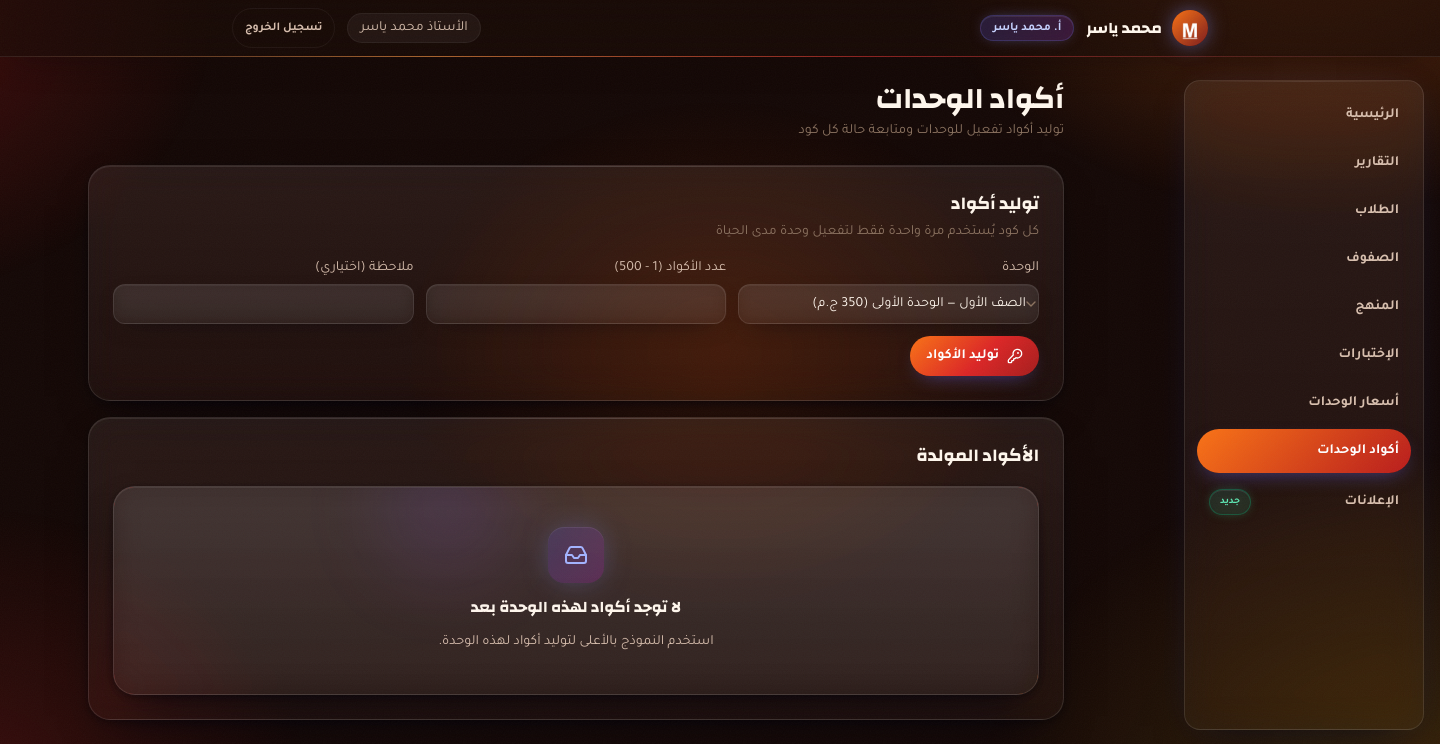
Test: CodesPage › renders the generated codes with the copy button and copies them to the clipboard
Type "2" into the number field labelled "عدد الأكواد (1 - 500)". click: (576, 304)
box: [426,284,726,324]
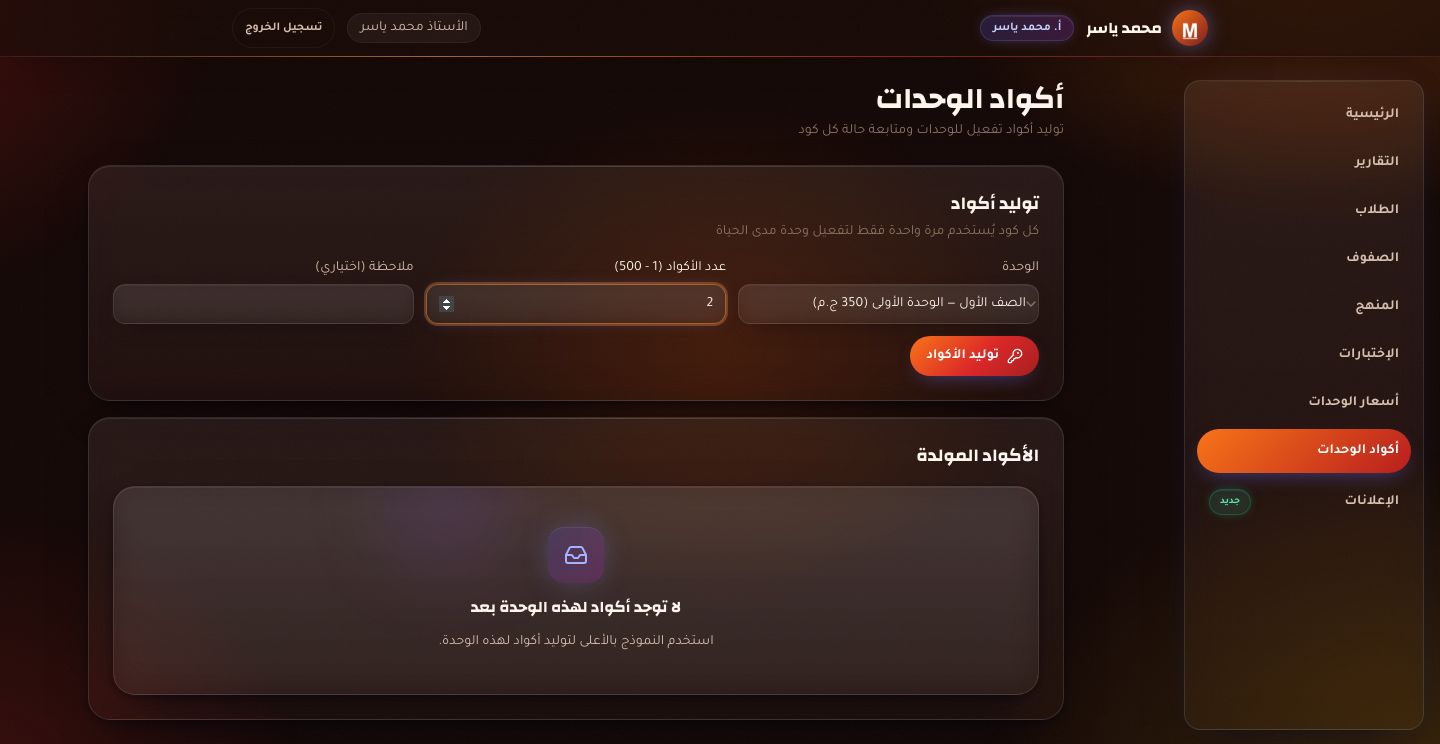
Click the button "توليد الأكواد". click: (975, 356)
box: [910,336,1039,376]
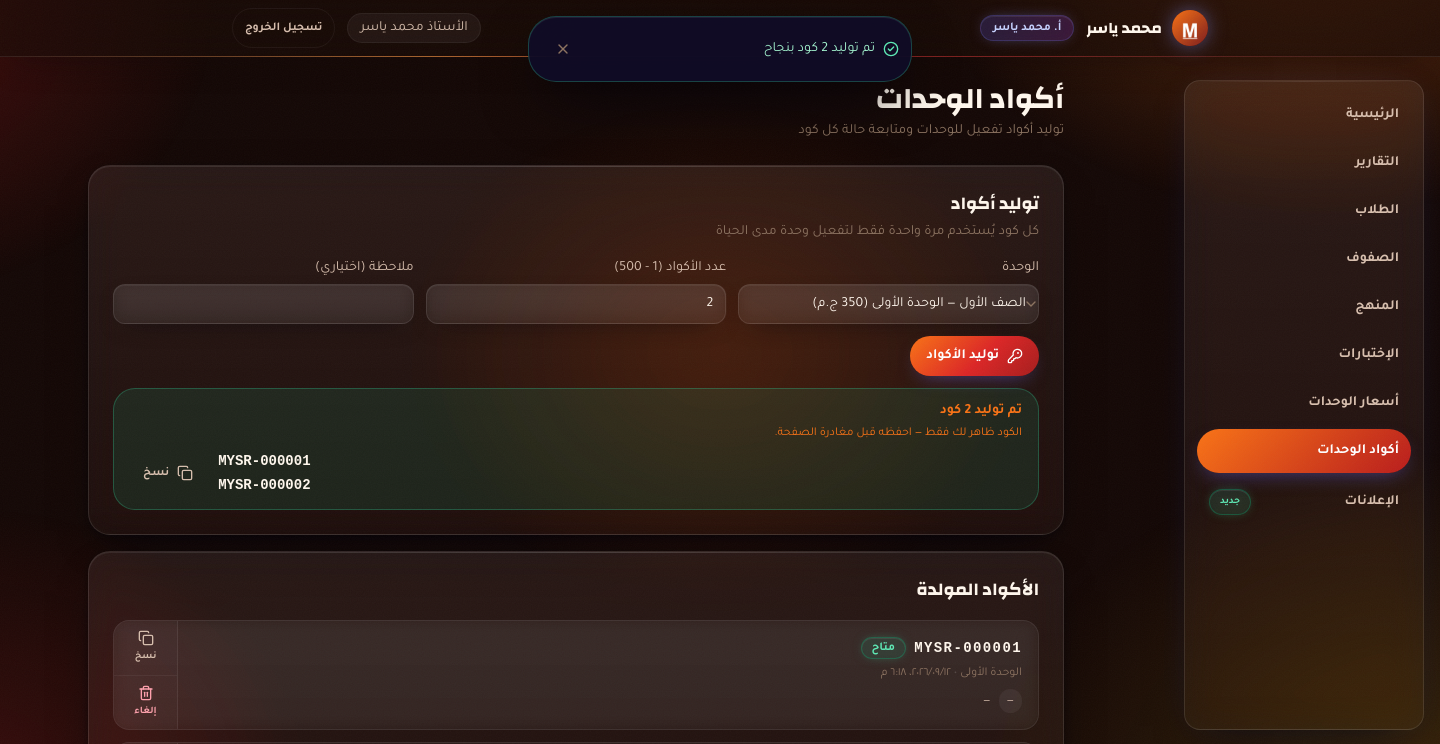
Result: the text "تم توليد 2 كود بنجاح" is shown at [764,42,875,56]
Result: the text "الكود ظاهر لك فقط — احفظه قبل مغادرة الصفحة." is shown at [774,427,1022,439]
Click the button "نسخ" next to "MYSR-000001 MYSR-000002". click: (168, 473)
box: [130,453,206,493]
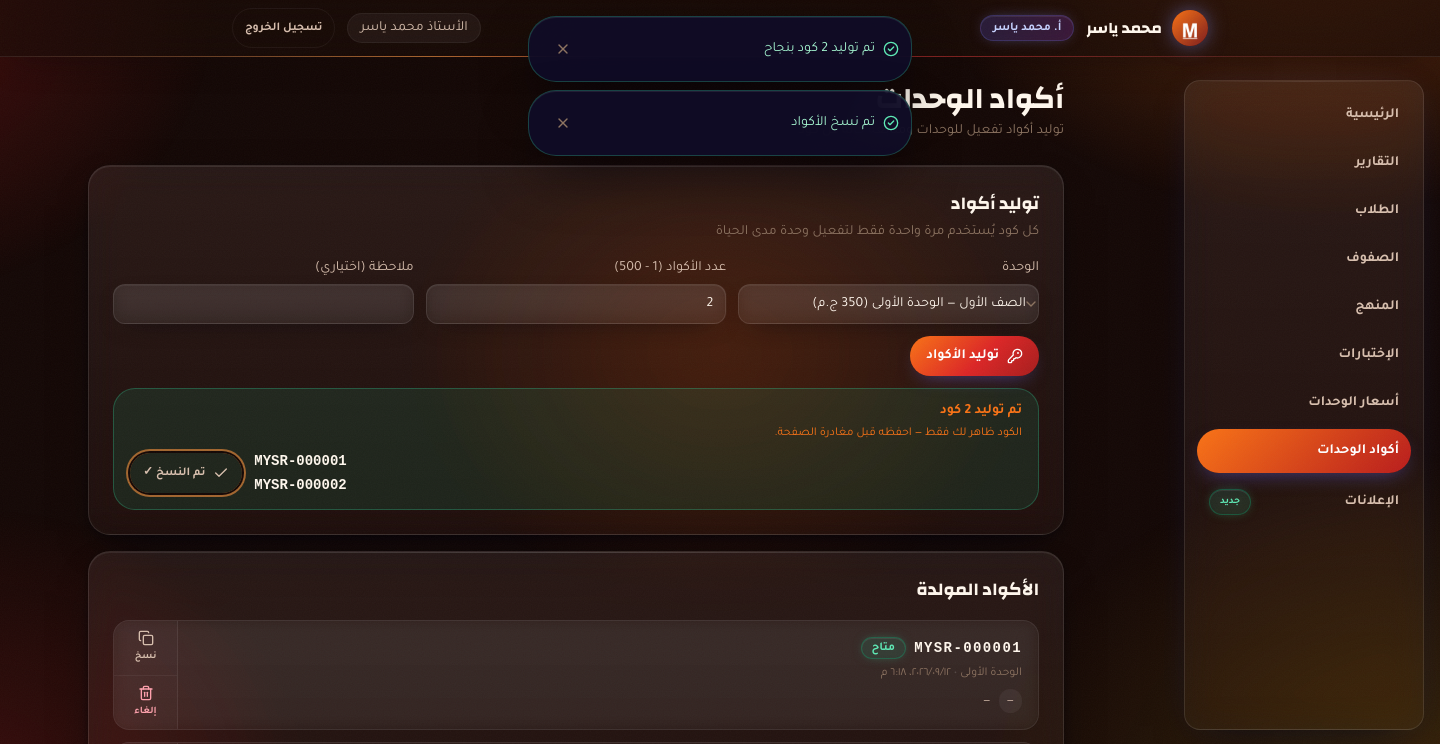
Result: the text "تم نسخ الأكواد" is shown at [791,116,875,130]
Result: the button "تم النسخ ✓" is shown at [130,453,242,493]
